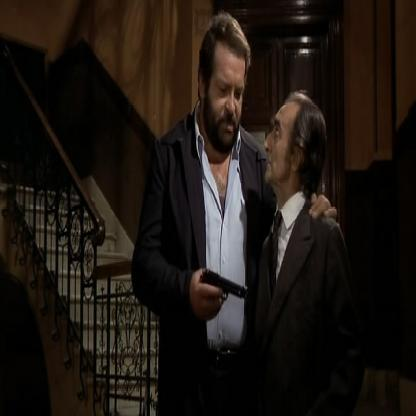gun: (184, 266, 256, 322)
